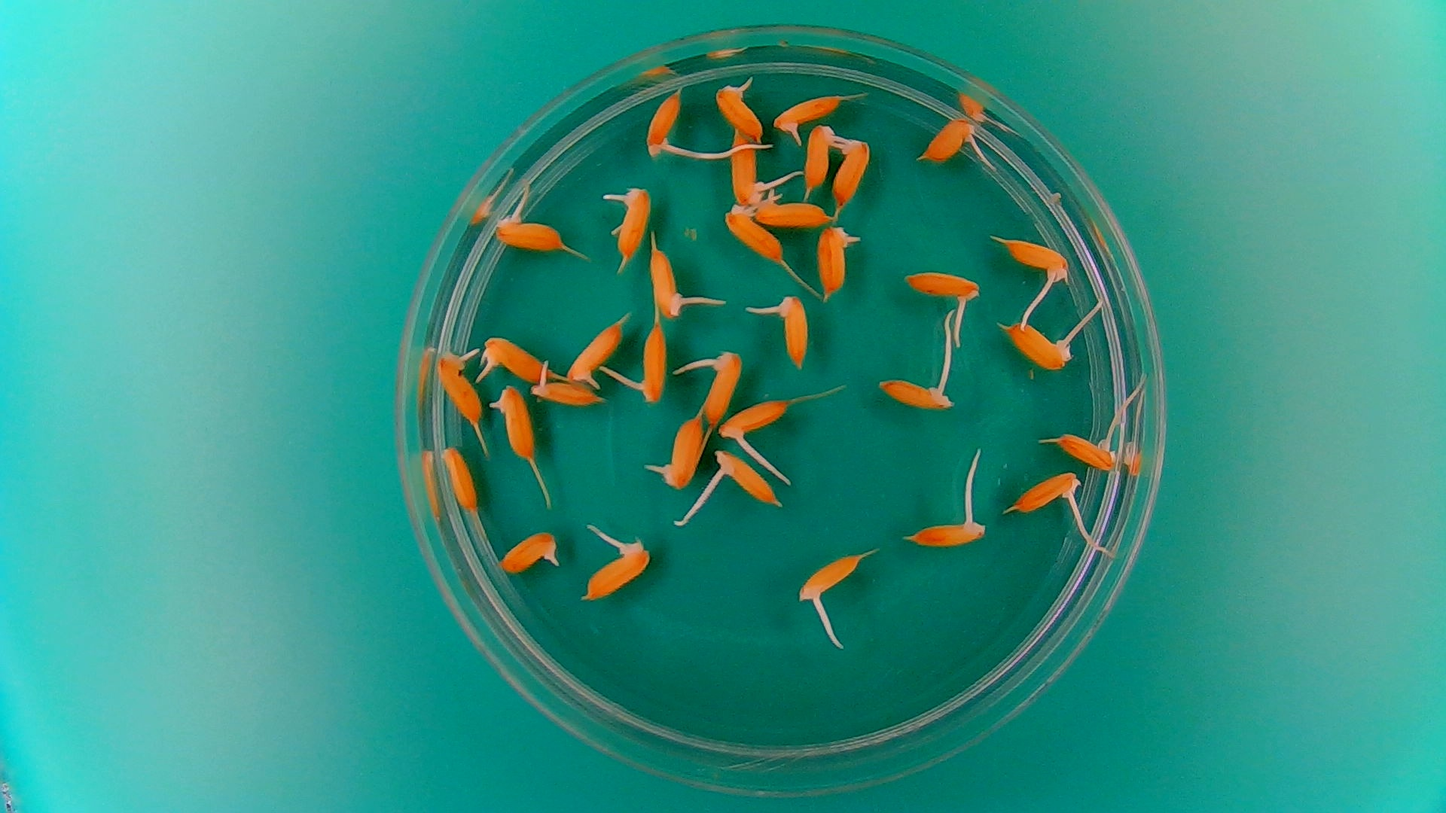no: (439, 444, 478, 513)
yes: (648, 410, 705, 489), (581, 537, 648, 602), (709, 448, 782, 507), (720, 200, 785, 263), (697, 346, 746, 429), (528, 363, 607, 413), (900, 266, 984, 313), (718, 395, 792, 448), (872, 368, 958, 413), (771, 90, 844, 143), (435, 344, 483, 424), (1006, 318, 1077, 372), (566, 319, 624, 385), (1001, 236, 1069, 291), (1005, 469, 1084, 516), (490, 382, 536, 461), (480, 335, 554, 384), (712, 76, 766, 142), (649, 242, 694, 321), (627, 318, 668, 404), (816, 224, 862, 300), (796, 547, 859, 601), (611, 180, 652, 260), (830, 134, 874, 208), (728, 130, 771, 205), (772, 289, 813, 367), (644, 86, 686, 160), (921, 117, 984, 164), (751, 190, 831, 227), (498, 529, 561, 575), (1054, 428, 1121, 470), (493, 216, 570, 252), (911, 513, 985, 550), (802, 120, 837, 193)
